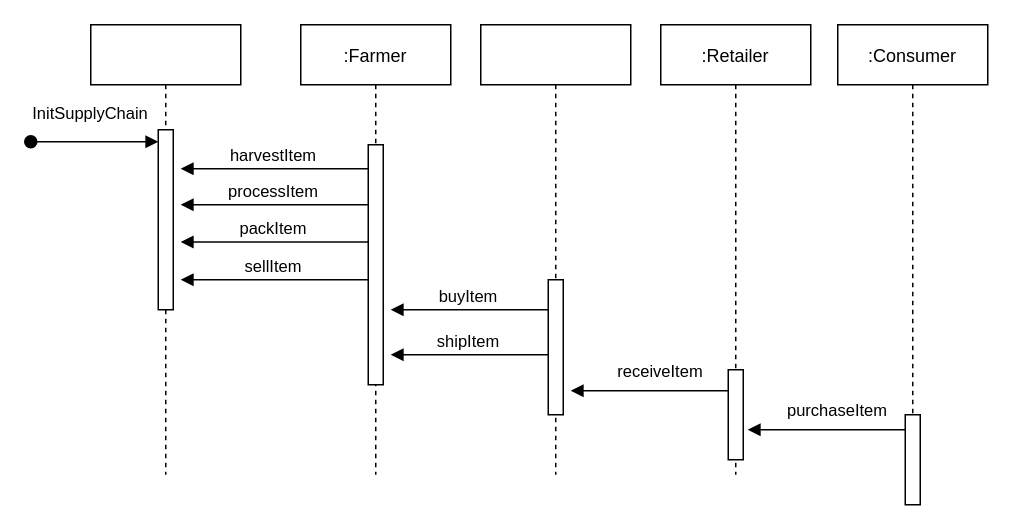
This 1013x530 diagram has some shape labels left out. Each missing label, with the box of its shape:
::Distributor: (479, 23, 631, 475)
:Item: (89, 23, 241, 475)
